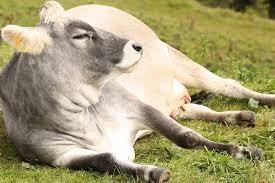cow: (1, 0, 275, 183)
